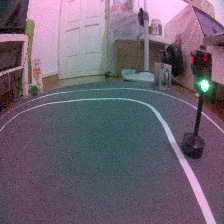green: (178, 45, 215, 164)
